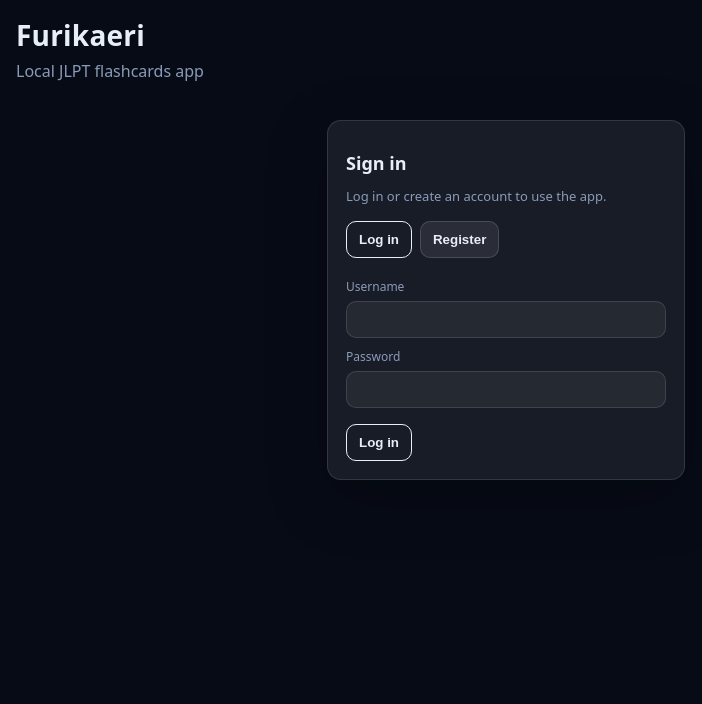
App › register with mismatched passwords shows error and does not submit
Expected: the text "Furikaeri" is shown, [16,16,145,54]
Step 1. Click the button "Register" → x=460, y=240, box [420,221,499,258]
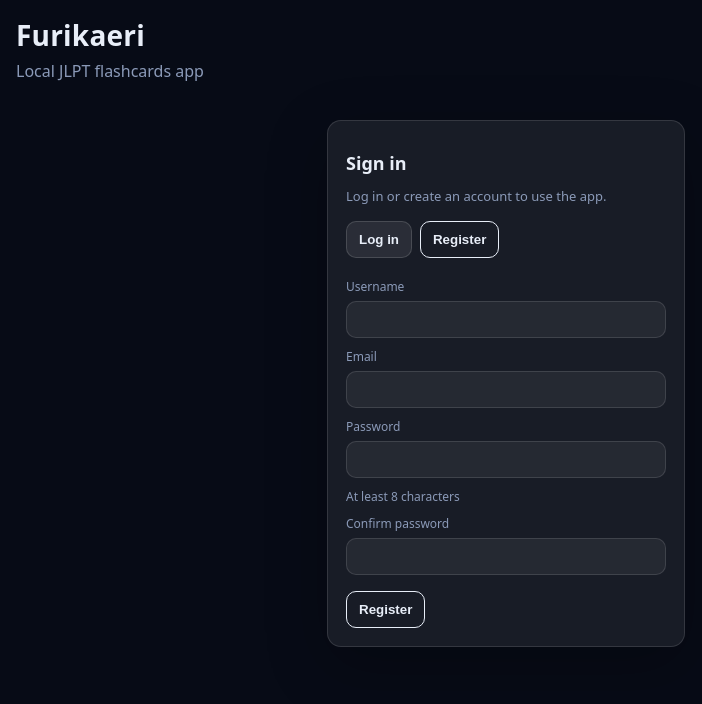
Step 2. Type "newuser" into the field labelled "Username" → x=506, y=320, box [346,301,666,338]
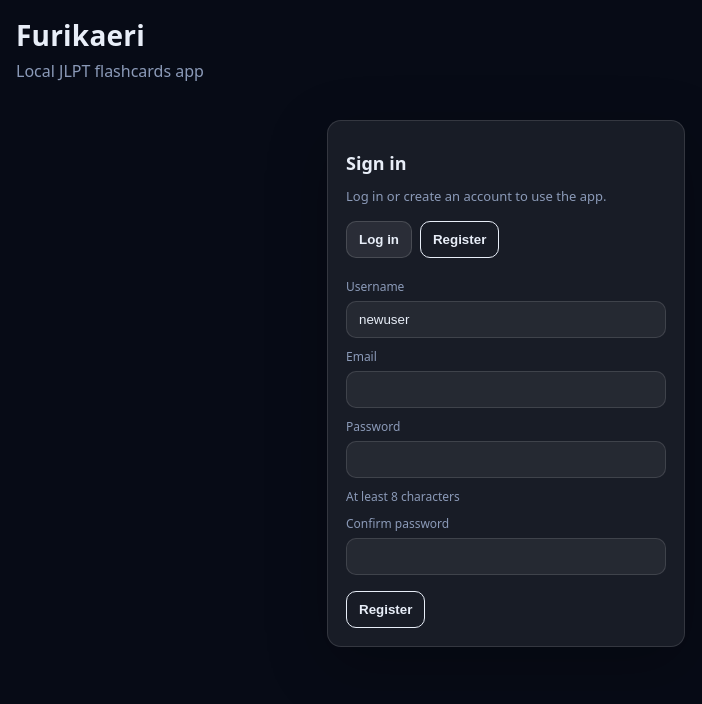
Step 3. Type "u@example.com" into the field labelled "Email" → x=506, y=390, box [346,371,666,408]
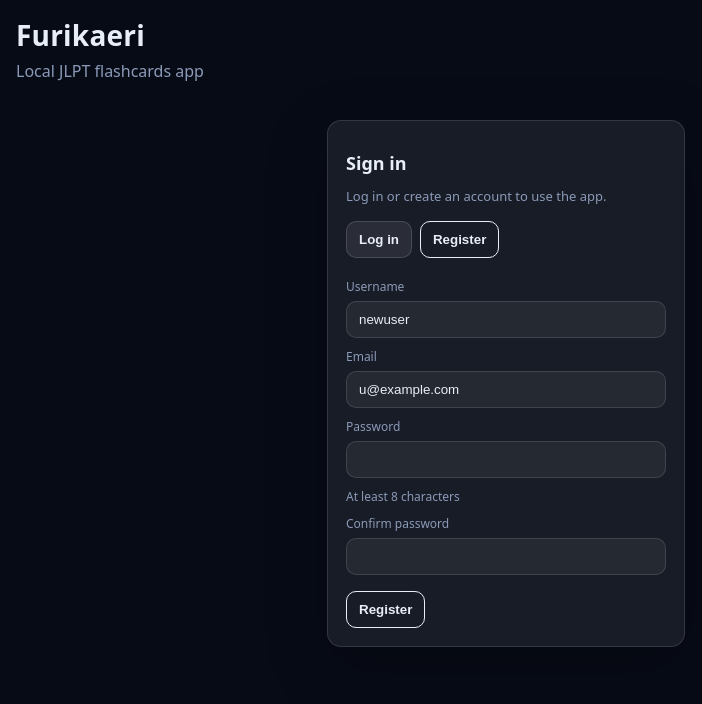
Step 4. Type "password123" into the password field labelled "Password" → x=506, y=460, box [346,441,666,478]
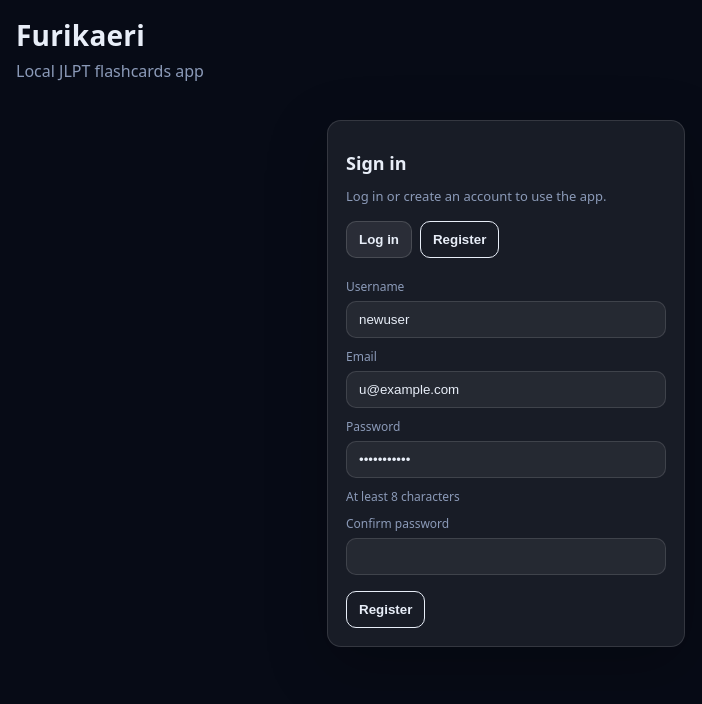
Step 5. Type "password456" into the password field labelled "Confirm password" → x=506, y=557, box [346,538,666,575]
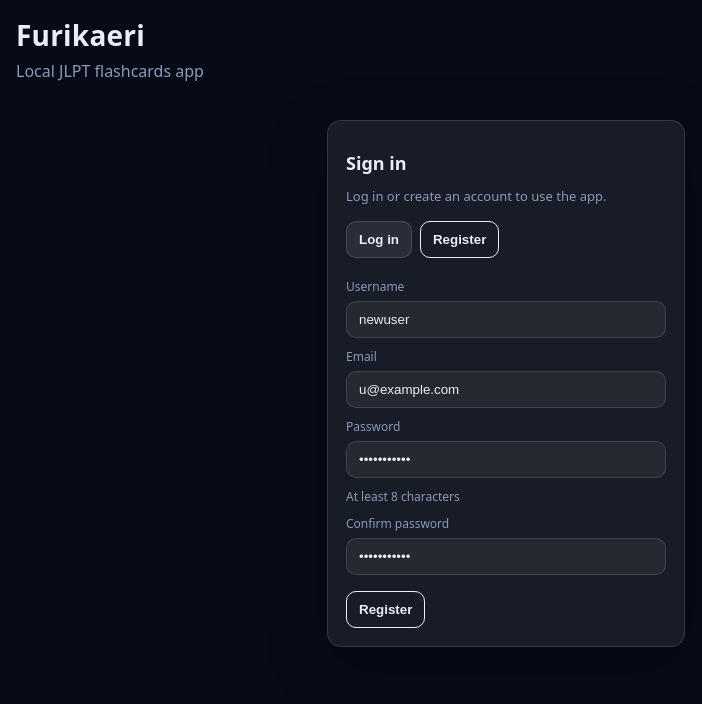
Step 6. Click the button "Register" below "Confirm password" → x=386, y=610, box [346,591,425,628]
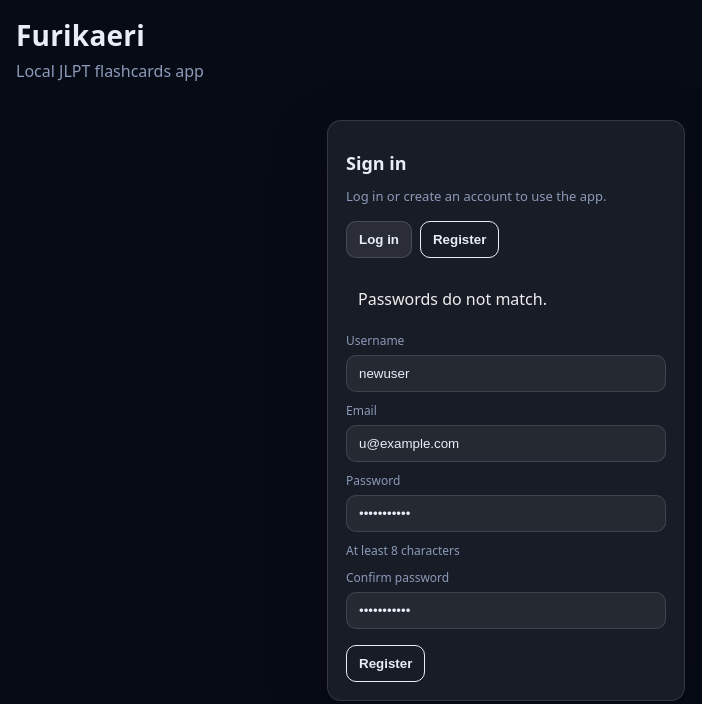
Expected: the text "Passwords do not match." is shown, [358,288,547,310]
